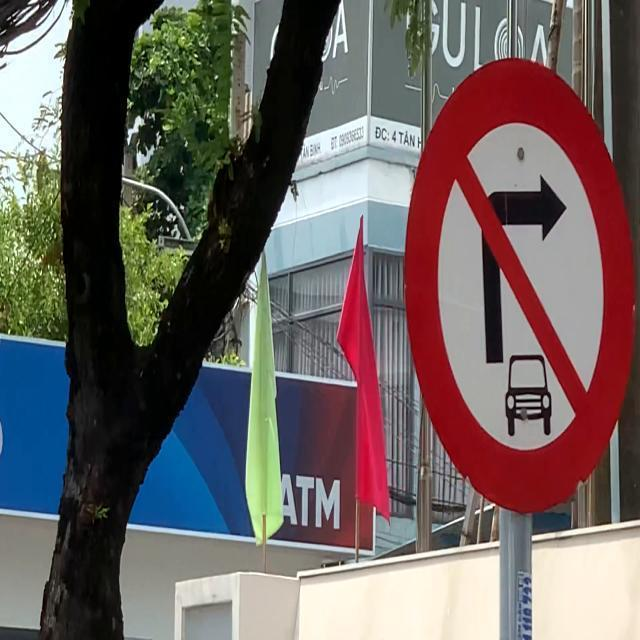123b-cam-re-phai: (404, 62, 636, 514)
